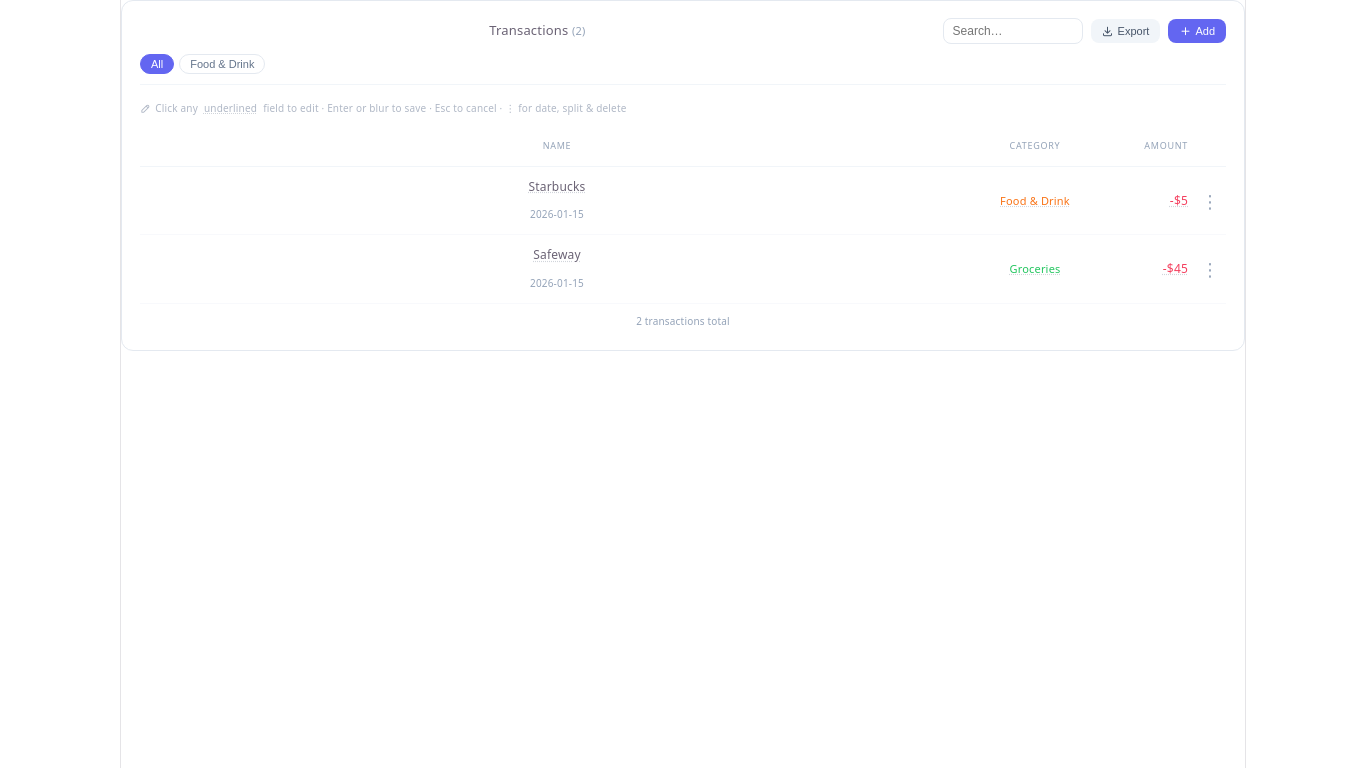
it: TransactionsView — with transactions › inline edit: Escape cancels without saving
The width and height of the screenshot is (1366, 768).
Click the text "Starbucks": (557,187) [528,178,586,195]
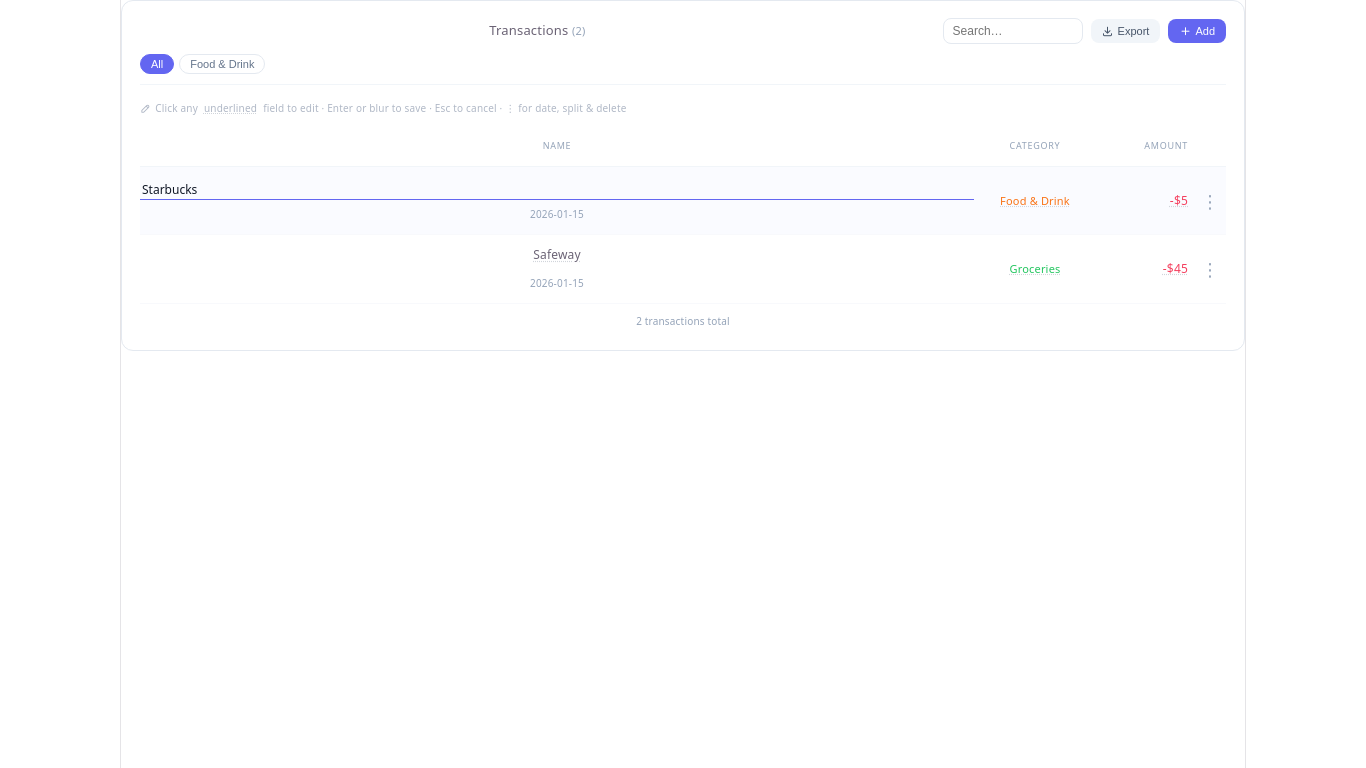
Press Escape in the field showing "Starbucks", box [140,180,974,200]
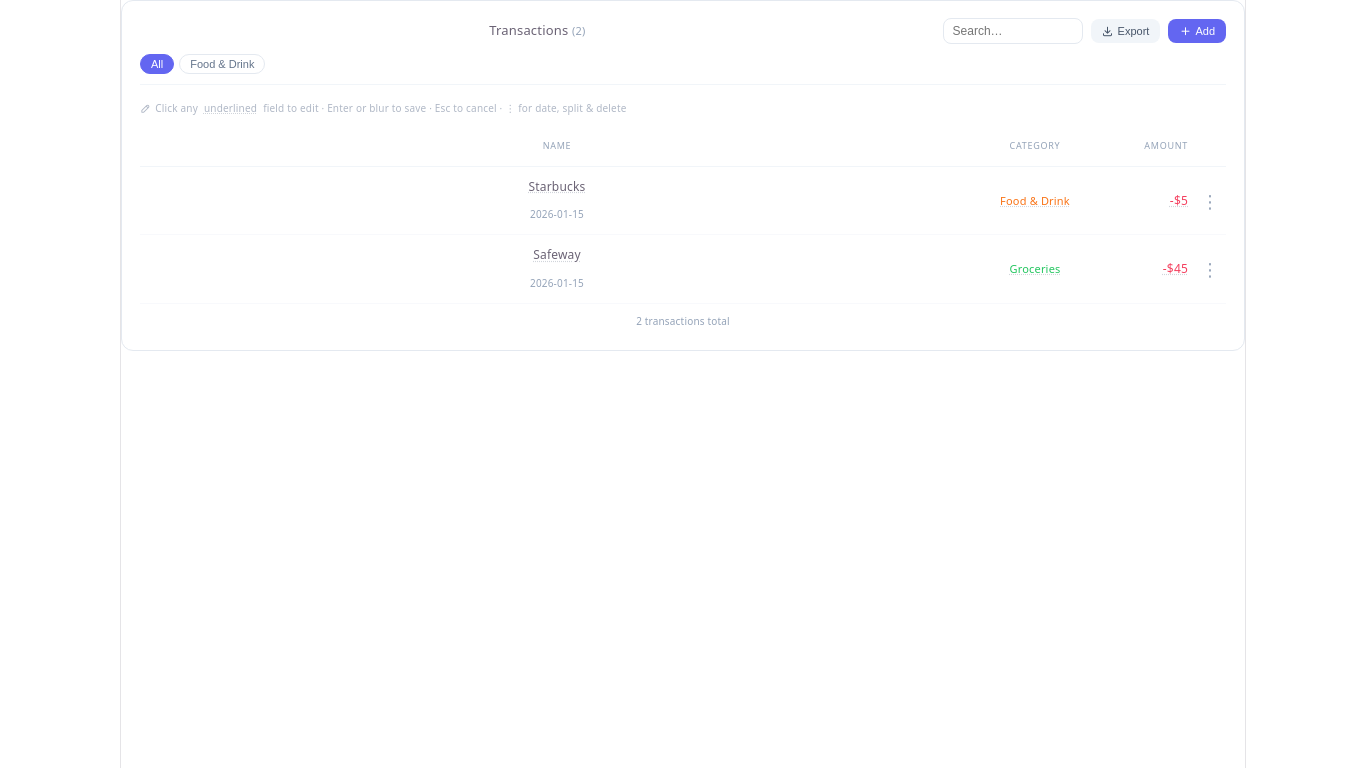
Expected: the text "Starbucks" is shown, [528,178,586,195]
